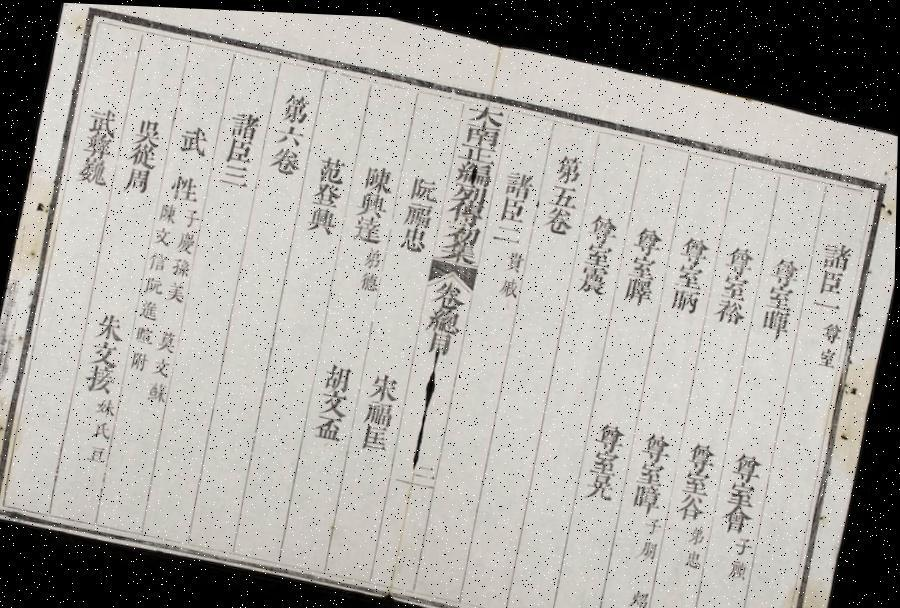c: (444, 190, 489, 224), (175, 118, 214, 156), (276, 85, 314, 124), (452, 152, 496, 185), (584, 203, 623, 240), (428, 273, 469, 308), (84, 100, 123, 136), (582, 463, 622, 498), (72, 152, 112, 187), (817, 230, 857, 265), (638, 421, 676, 457), (729, 441, 768, 476), (573, 257, 612, 292), (424, 300, 466, 332), (320, 356, 357, 392), (722, 234, 759, 270), (630, 216, 667, 252), (225, 103, 263, 138), (92, 307, 130, 342), (366, 365, 404, 400), (499, 160, 537, 195), (719, 494, 758, 528), (302, 200, 341, 234), (550, 144, 586, 180), (684, 431, 720, 467), (313, 148, 350, 183), (166, 168, 204, 202), (629, 474, 667, 508), (266, 140, 304, 174), (540, 198, 578, 232), (82, 360, 120, 394), (767, 246, 805, 280), (464, 96, 508, 125), (594, 412, 630, 447), (359, 158, 396, 192), (676, 226, 713, 260), (758, 298, 794, 332), (310, 410, 348, 442), (724, 470, 762, 502), (131, 112, 166, 146), (675, 484, 711, 517), (406, 168, 442, 201), (350, 210, 386, 243), (679, 459, 716, 491), (438, 232, 480, 260), (461, 116, 503, 144), (120, 161, 155, 194), (495, 188, 530, 221), (88, 336, 124, 368), (222, 132, 258, 164), (717, 264, 753, 296), (762, 274, 798, 306), (400, 195, 436, 227), (621, 268, 657, 300), (634, 451, 671, 482), (354, 186, 391, 217), (671, 253, 708, 284), (442, 215, 484, 242), (359, 419, 394, 451), (814, 258, 849, 290), (456, 136, 499, 162), (316, 385, 352, 416), (545, 175, 582, 205), (421, 326, 458, 356), (79, 128, 116, 158), (216, 159, 254, 188), (448, 176, 490, 202), (396, 220, 430, 252), (589, 440, 624, 471), (581, 234, 617, 264), (712, 290, 748, 320), (362, 395, 398, 425), (668, 278, 704, 308), (308, 177, 345, 206), (626, 246, 661, 276), (125, 138, 160, 168), (490, 216, 526, 244), (272, 118, 307, 146), (810, 286, 846, 309), (501, 243, 528, 271), (636, 529, 663, 556), (729, 526, 757, 552), (820, 311, 846, 338), (145, 376, 171, 403), (156, 197, 182, 224), (726, 548, 752, 575), (174, 226, 200, 253), (164, 276, 190, 302), (146, 246, 171, 273), (156, 326, 180, 354), (142, 270, 167, 296), (134, 320, 159, 346), (360, 241, 385, 267), (137, 294, 162, 320), (497, 270, 522, 296), (816, 337, 841, 363), (151, 222, 176, 248), (686, 514, 710, 541), (628, 579, 653, 604), (85, 440, 110, 465), (90, 416, 115, 441), (128, 346, 152, 372), (94, 394, 120, 418), (358, 265, 382, 290), (641, 506, 666, 530), (682, 539, 706, 564), (170, 253, 194, 278), (150, 353, 173, 378), (180, 202, 202, 228), (416, 454, 438, 474), (719, 597, 745, 608)
